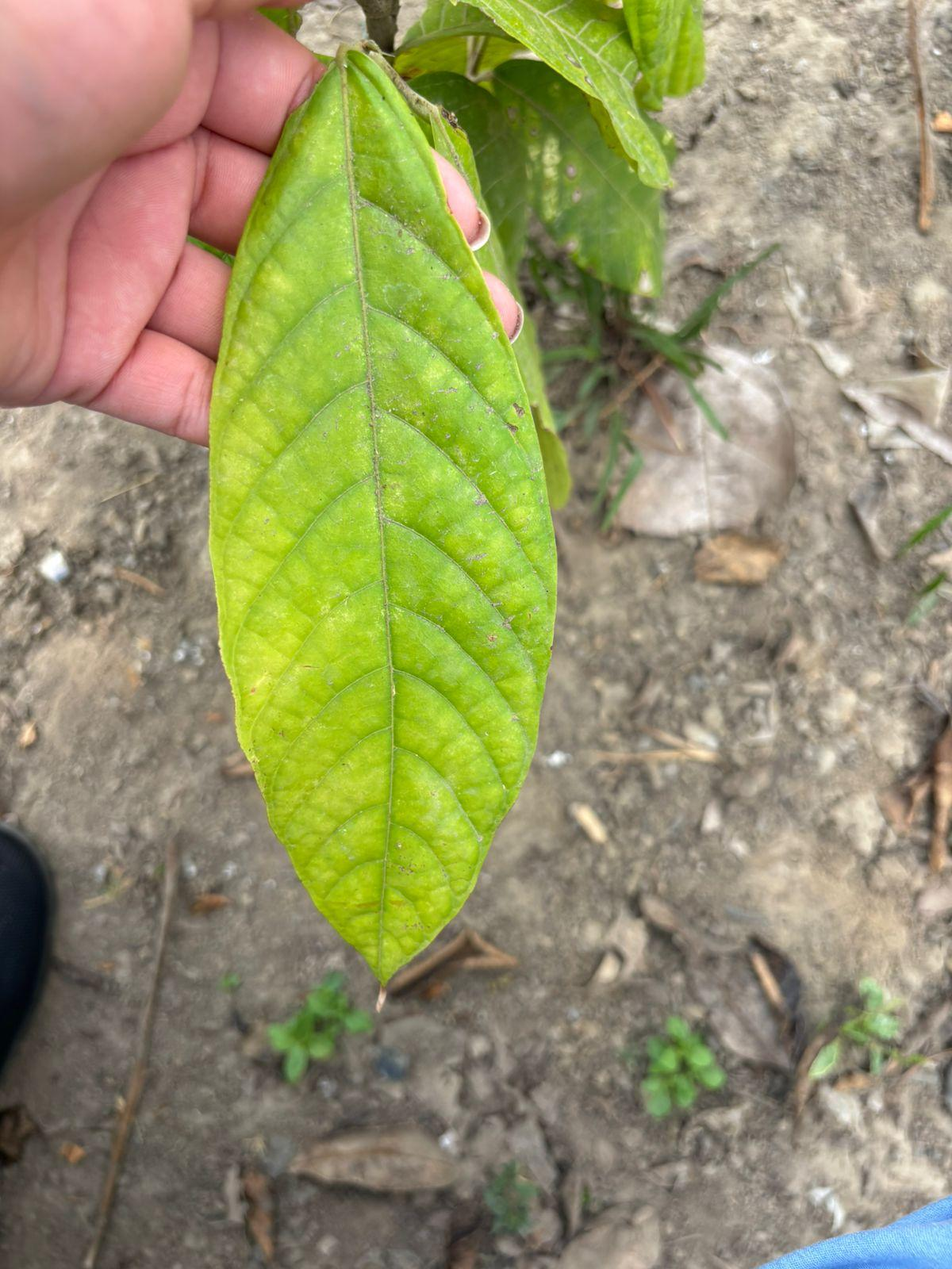deficiencia_nitrogeno: (209, 48, 556, 982)
